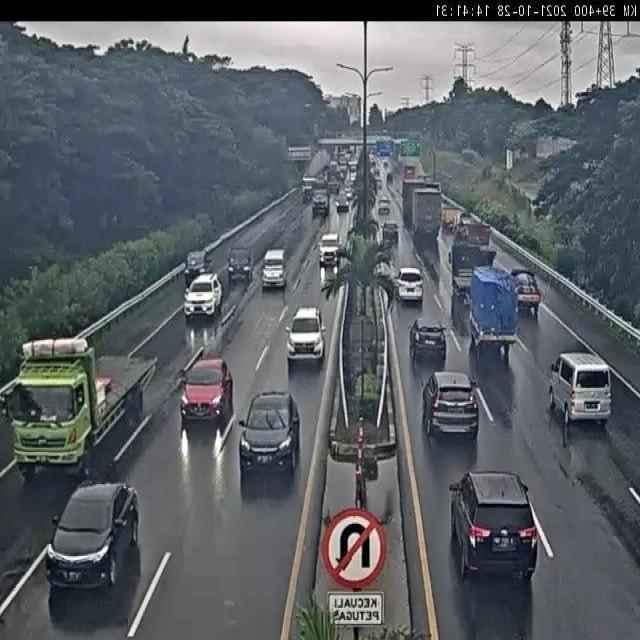Car: (42, 481, 140, 595), (448, 468, 540, 574), (236, 391, 302, 482), (178, 354, 234, 432), (422, 370, 481, 441), (285, 305, 329, 369), (182, 270, 222, 324), (408, 316, 449, 366), (394, 268, 424, 302)
Truck: (6, 334, 156, 483), (469, 265, 519, 355)
Van: (548, 353, 614, 430), (260, 247, 288, 292), (226, 248, 252, 281)
